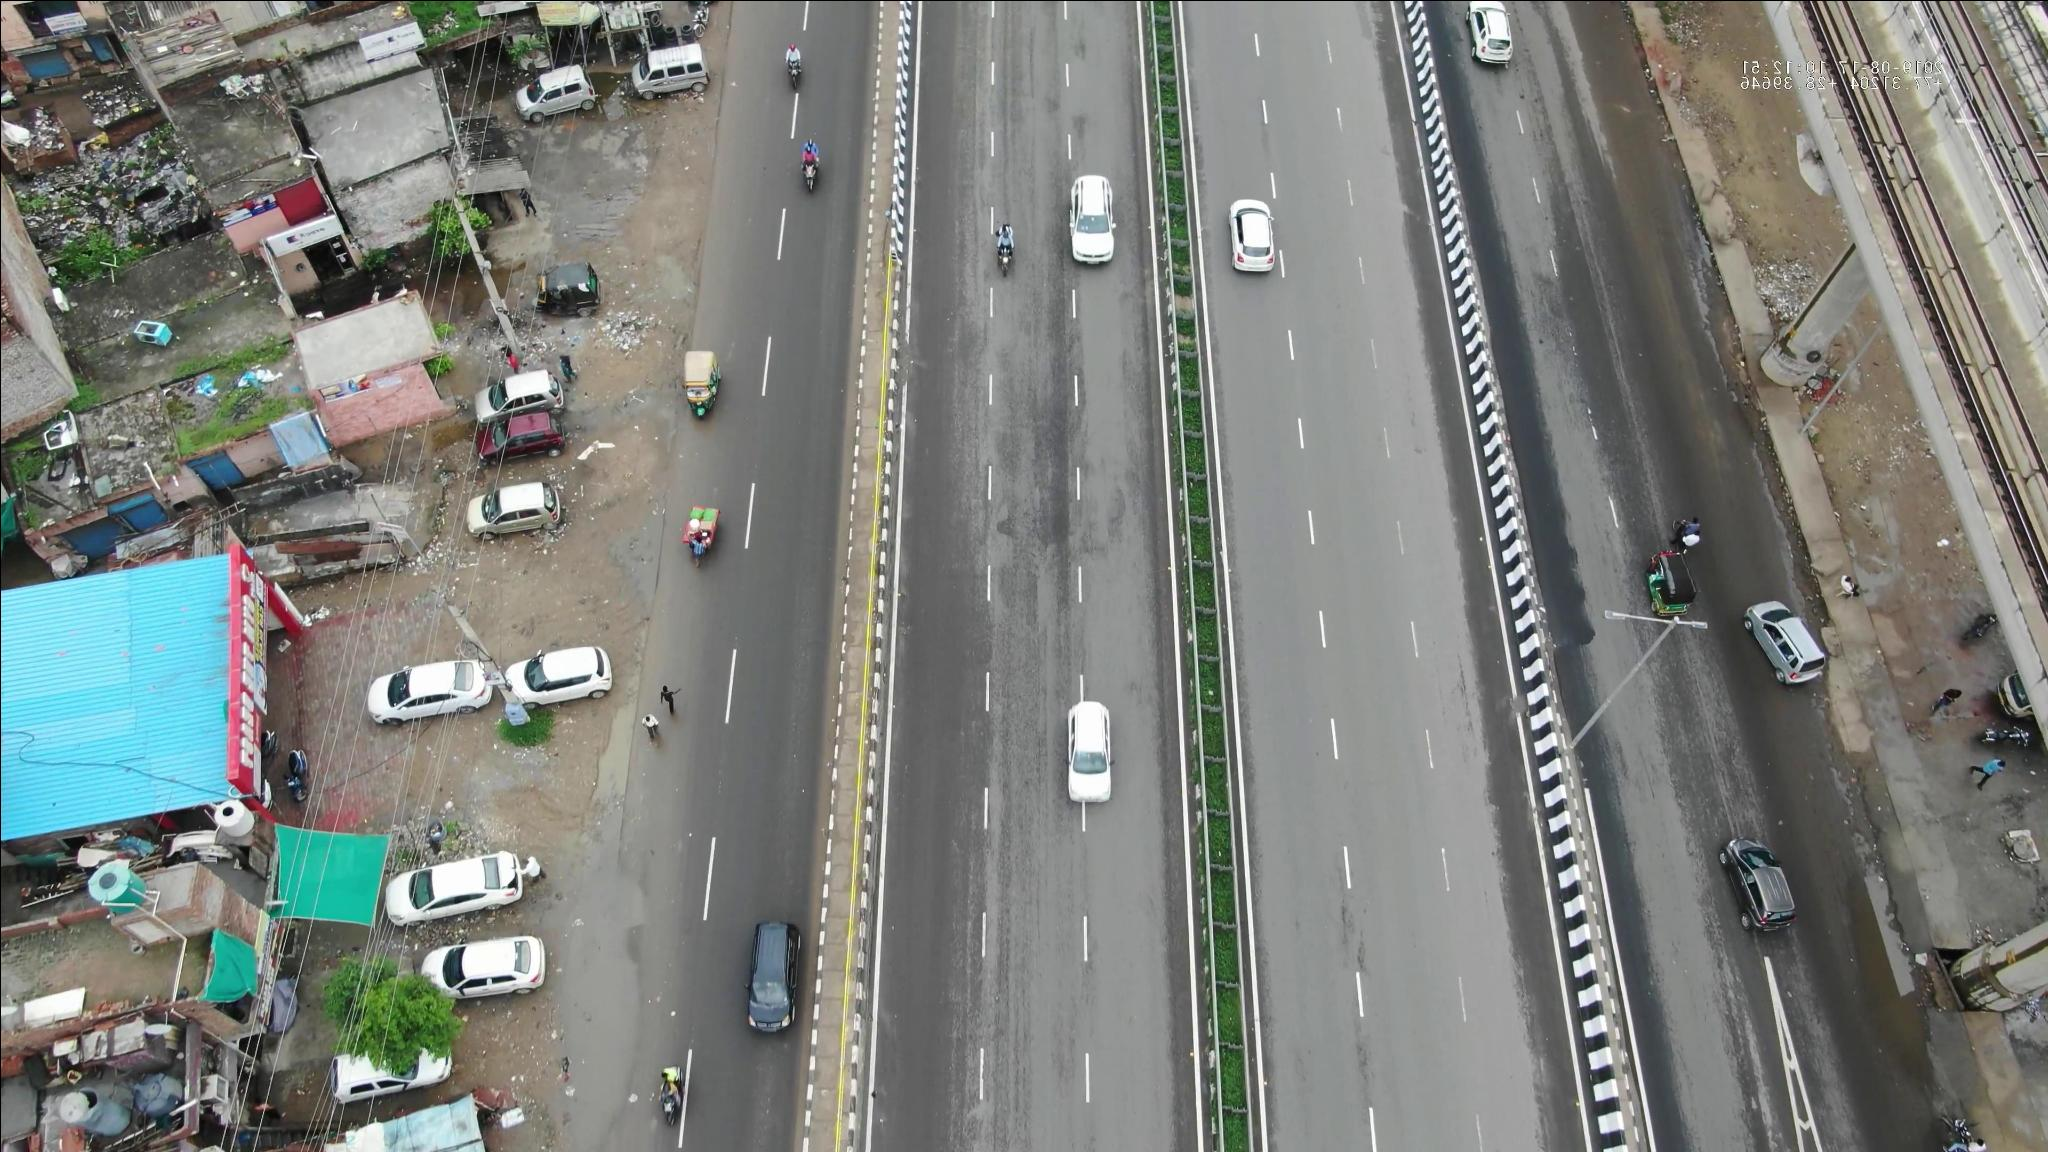Waterlogging: (570, 889, 643, 1124)
